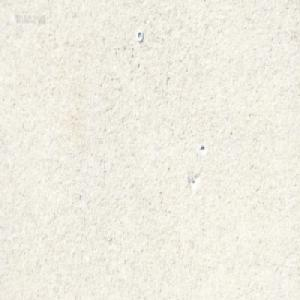Washer: (136, 29, 143, 42)
